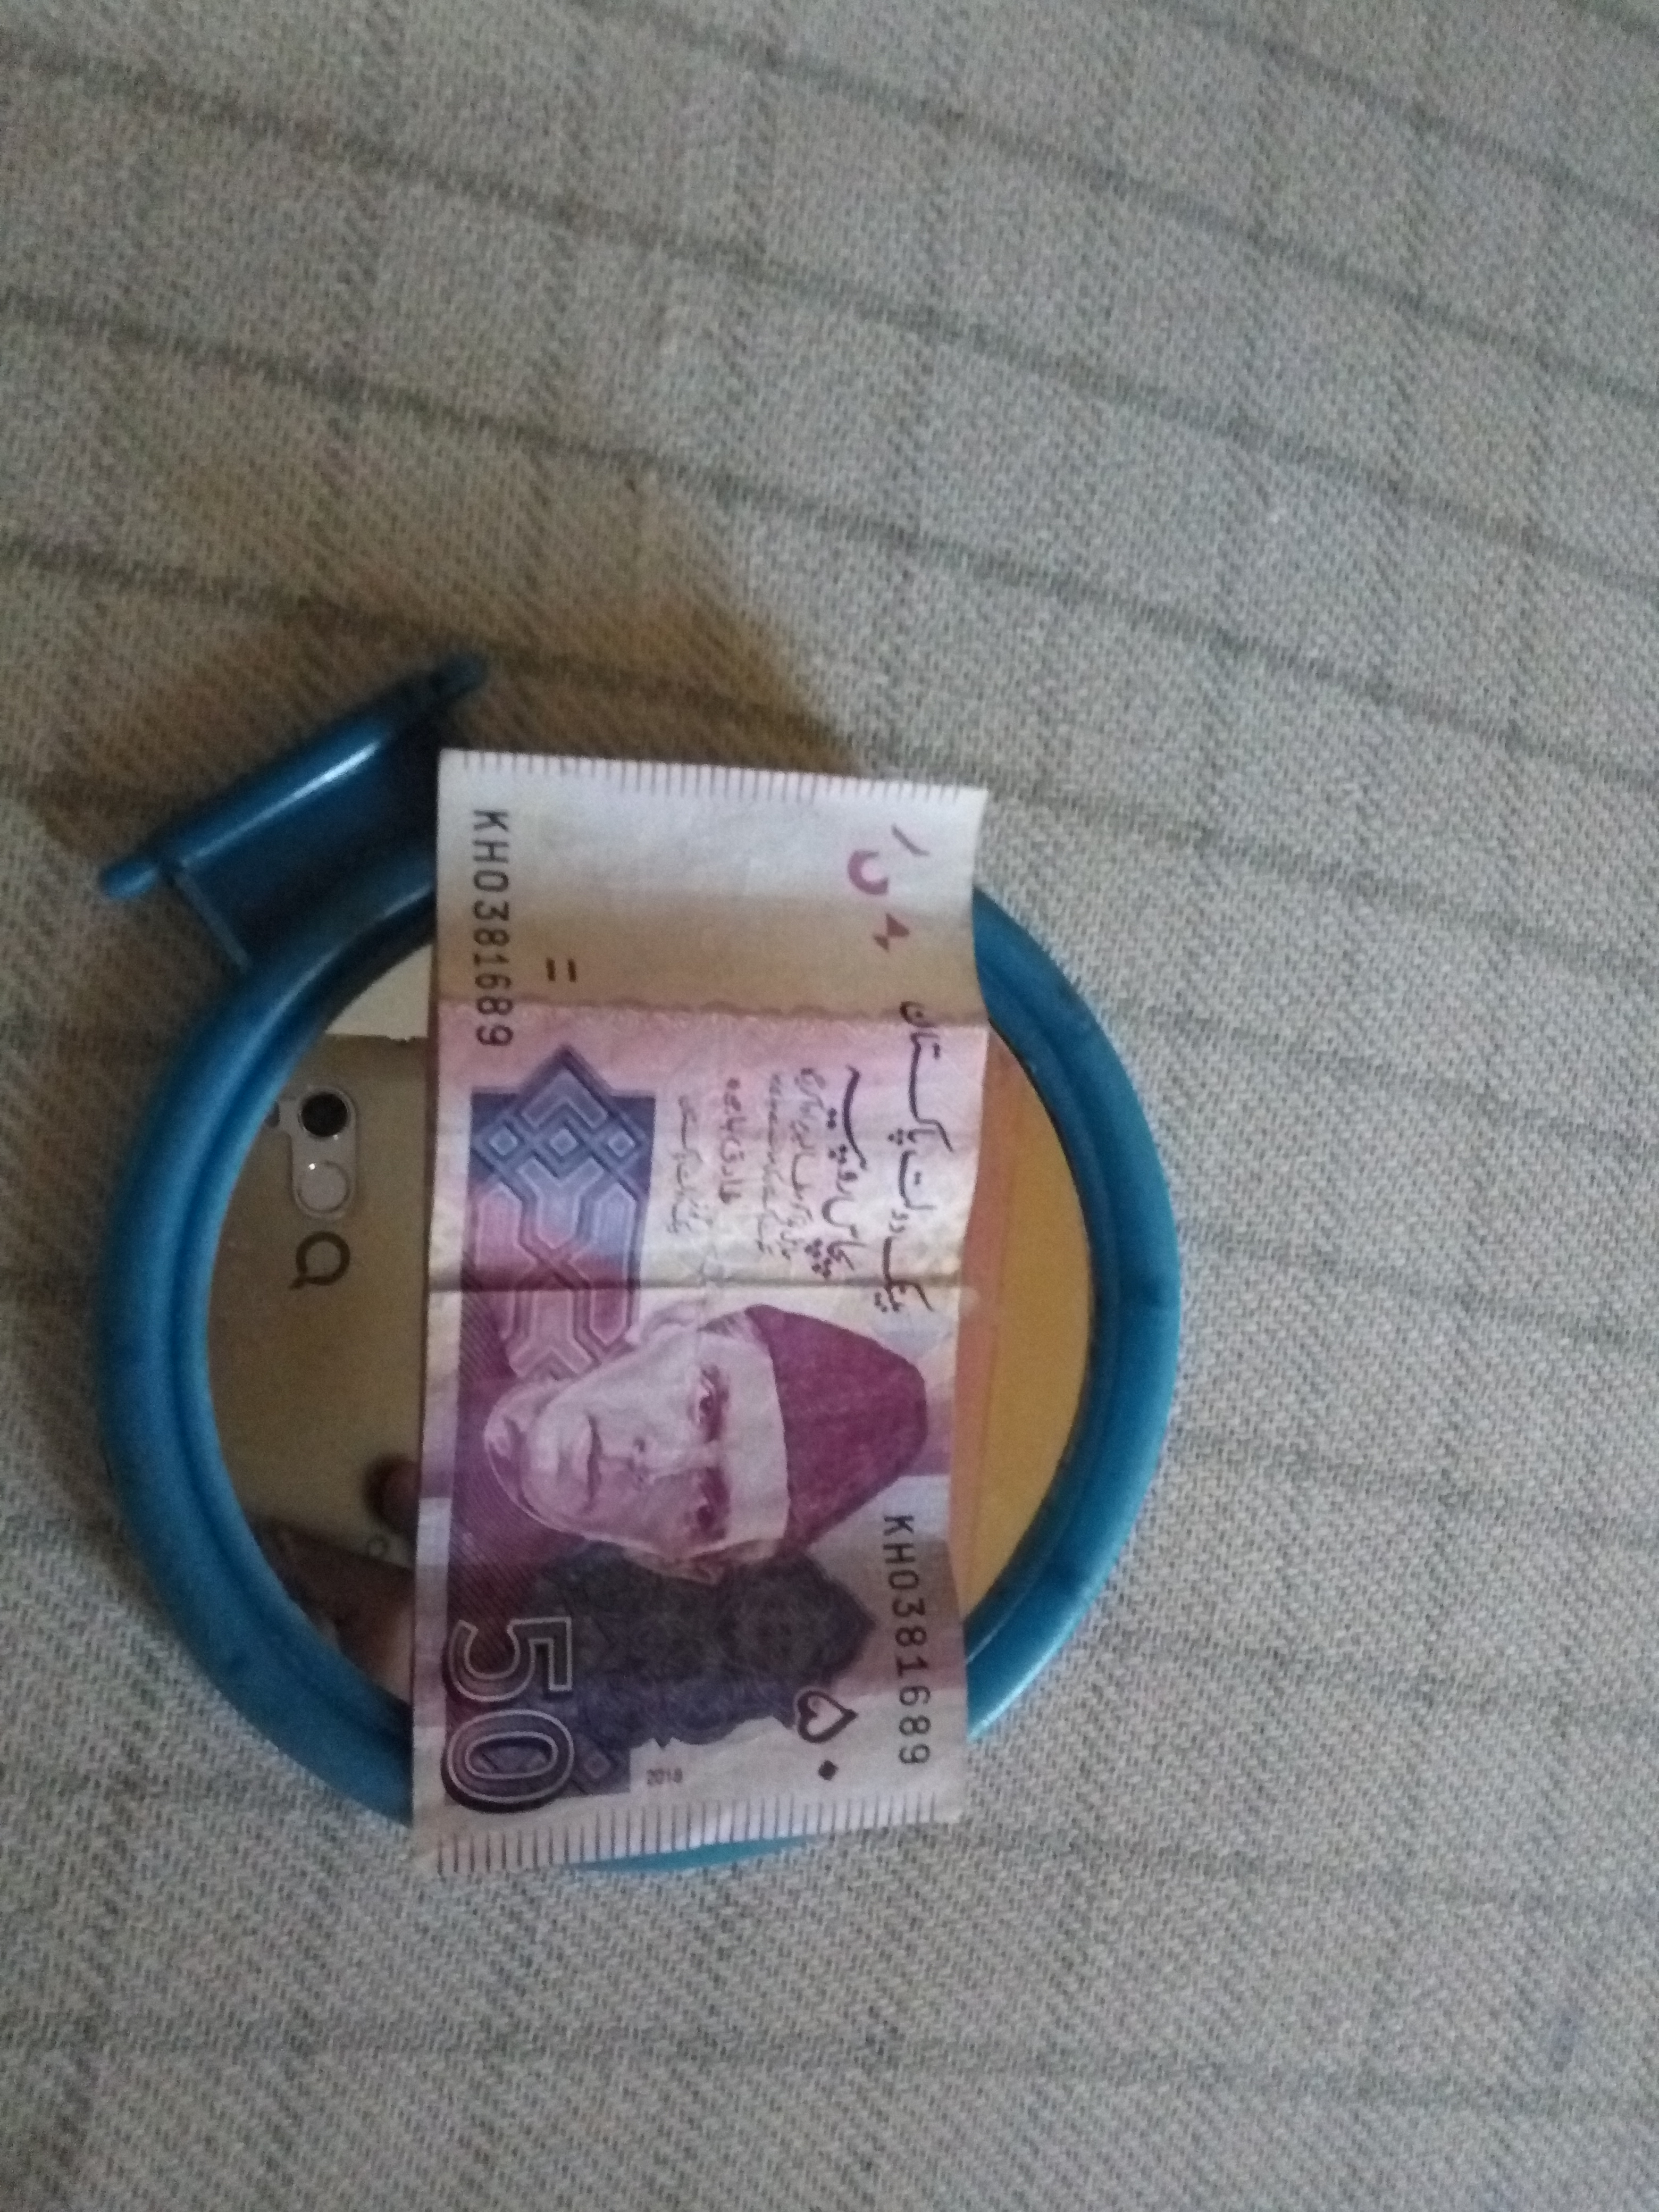50 rupee: (345, 716, 1023, 1925)
